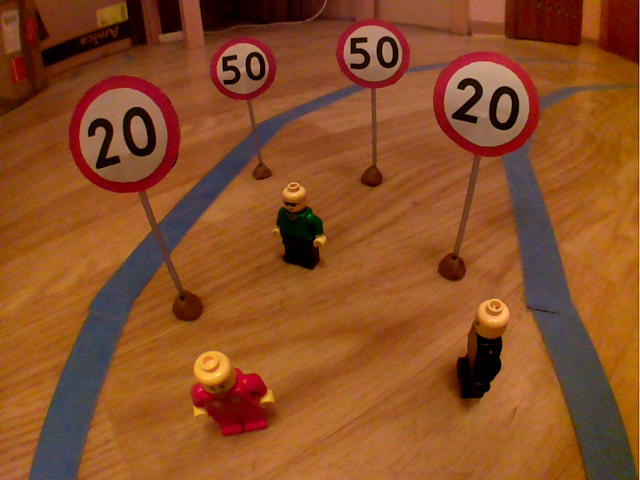Ograniczenie 20: (64, 72, 185, 198), (430, 47, 547, 163)
Ograniczenie 50: (331, 14, 414, 93), (206, 31, 282, 105)
Postac LEGO: (185, 345, 284, 446), (446, 294, 514, 408), (268, 180, 331, 277)
